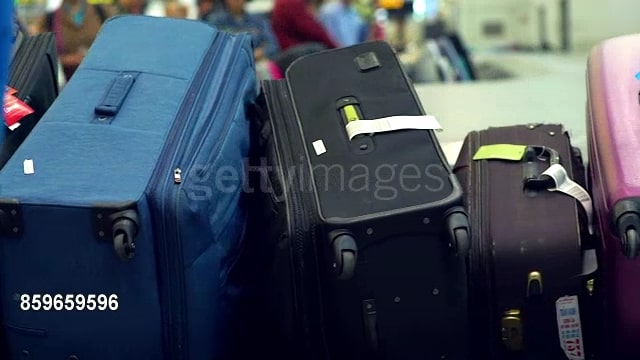baggage: (10, 12, 256, 360), (253, 42, 473, 360), (445, 125, 604, 360), (573, 32, 640, 360)
